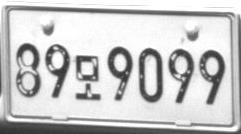0: (137, 47, 163, 103)
8: (15, 42, 41, 97)
9: (167, 48, 195, 103), (198, 49, 225, 105), (44, 43, 70, 98), (107, 46, 133, 101)
모: (74, 54, 101, 100)
